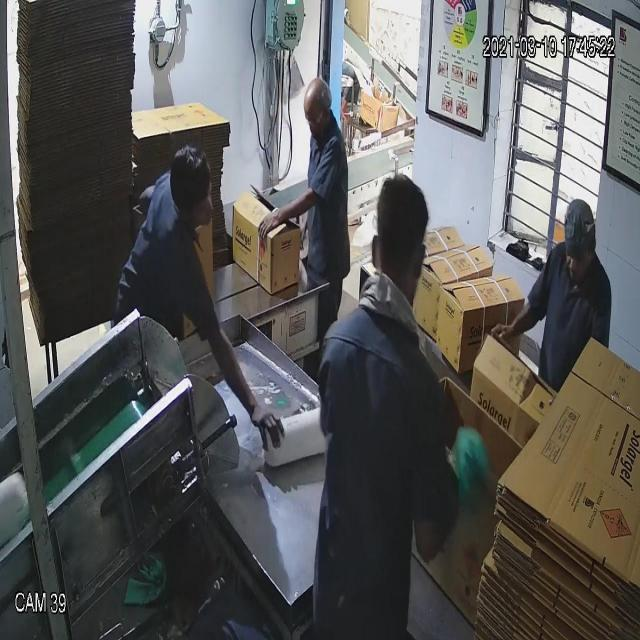No_Gloves: (52, 62, 514, 472)
